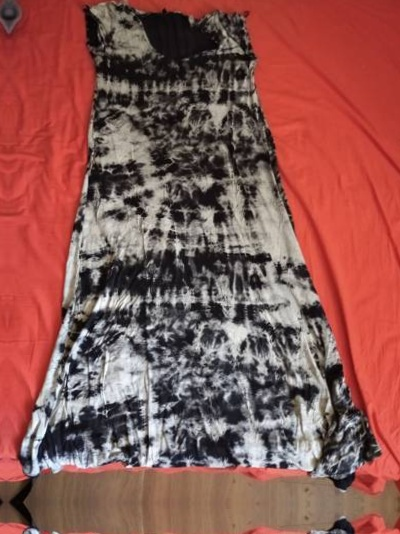Dress: (19, 0, 388, 485), (15, 522, 385, 534)
